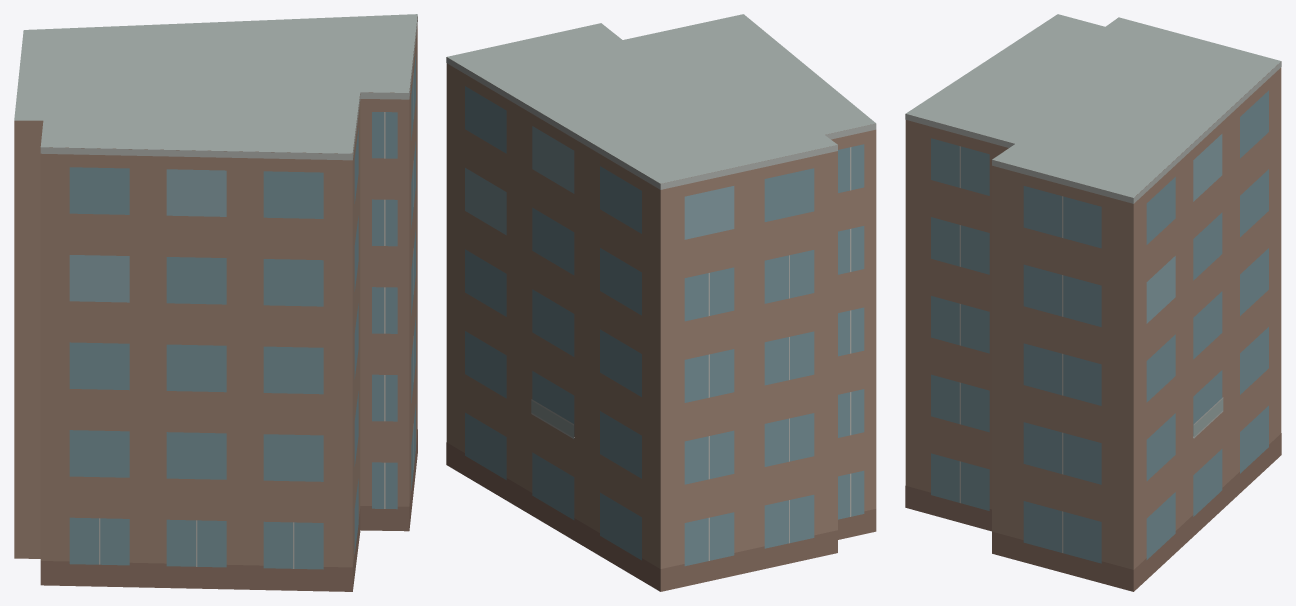
The model's file is survey-upis-32641134.glb.
3 views of the same model, side by side, from view 1: azimuth 30°, elevation 25°; view 2: azimuth 150°, elevation 25°; view 3: azimuth 270°, elevation 25° (orthographic). The views are drawn at different scales.
Visible parts, largest first — view 1: survey-upis-32641134.tmp; view 2: survey-upis-32641134.tmp; view 3: survey-upis-32641134.tmp.
Part boxes in pixels (<box>): survey-upis-32641134.tmp: <box>14,14,417,591</box>; survey-upis-32641134.tmp: <box>446,14,876,591</box>; survey-upis-32641134.tmp: <box>905,14,1281,591</box>.
Bounding box in the file's own units: 16.23 × 16.2 × 14.02.
